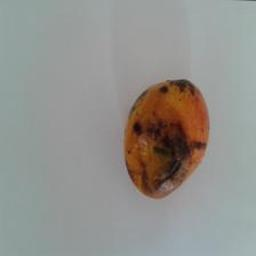Mango Rotten: (121, 67, 213, 205)
